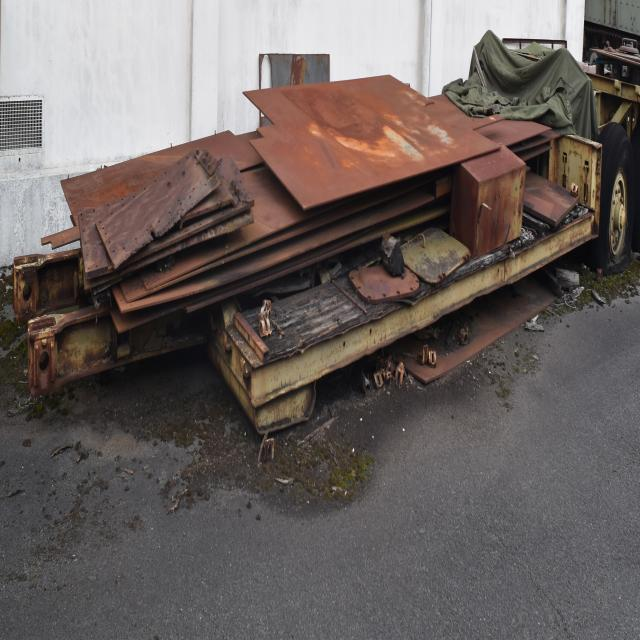entulho: (370, 132, 586, 384), (234, 62, 474, 216), (65, 137, 249, 292), (453, 29, 607, 104)
